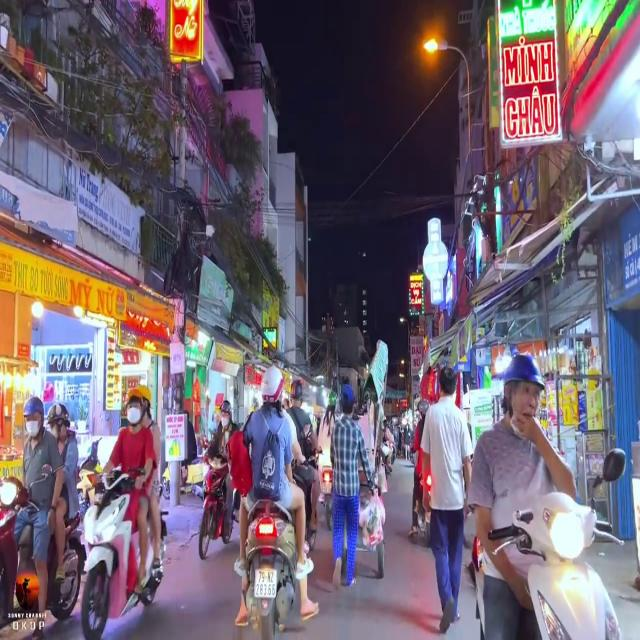bien_trang: (254, 564, 279, 605)
